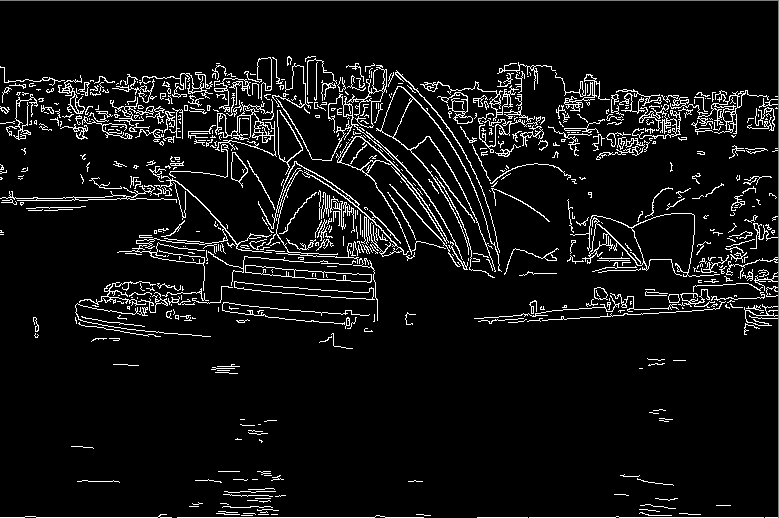opera house: (156, 61, 710, 302)
